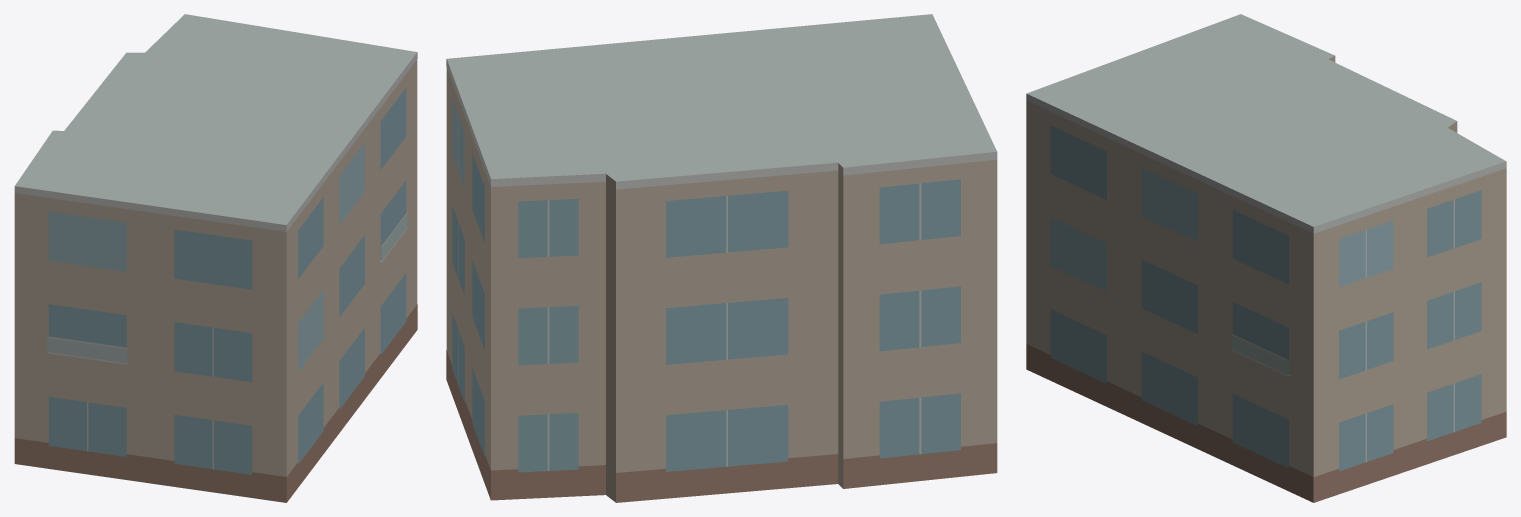
Rendered from survey-upis-32627738.glb.
The picture shows the model from 3 angles, left to right: view 1: azimuth 30°, elevation 25°; view 2: azimuth 150°, elevation 25°; view 3: azimuth 270°, elevation 25°; orthographic projection. The views are drawn at different scales.
Parts seen in each view (by area): view 1: survey-upis-32627738.tmp; view 2: survey-upis-32627738.tmp; view 3: survey-upis-32627738.tmp.
Boxes of the visible parts, x1,y1,x2,y2 form: survey-upis-32627738.tmp: (14, 14, 417, 502); survey-upis-32627738.tmp: (446, 14, 997, 502); survey-upis-32627738.tmp: (1026, 14, 1506, 502).
Size of the model in its own units: 16.4 by 9.9 by 15.62.
